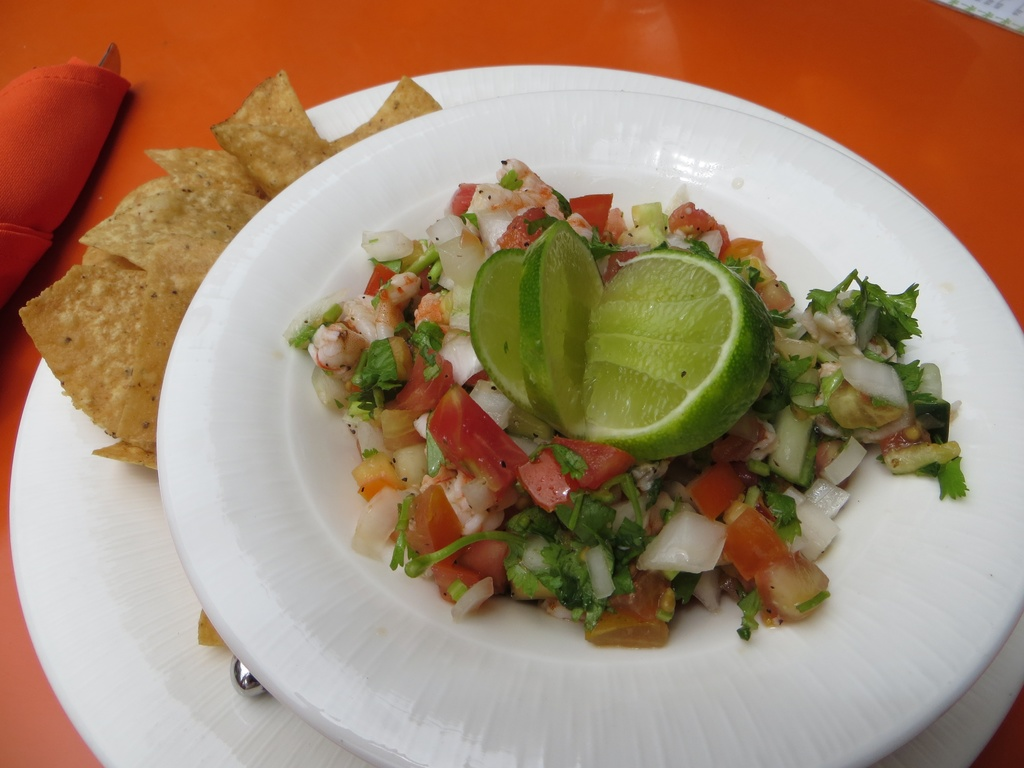salad: (264, 154, 982, 673)
